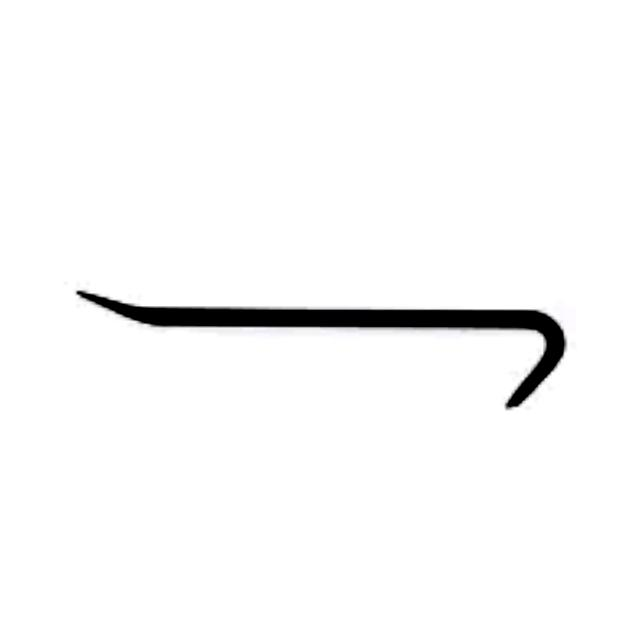crow bar: (64, 274, 576, 428)
